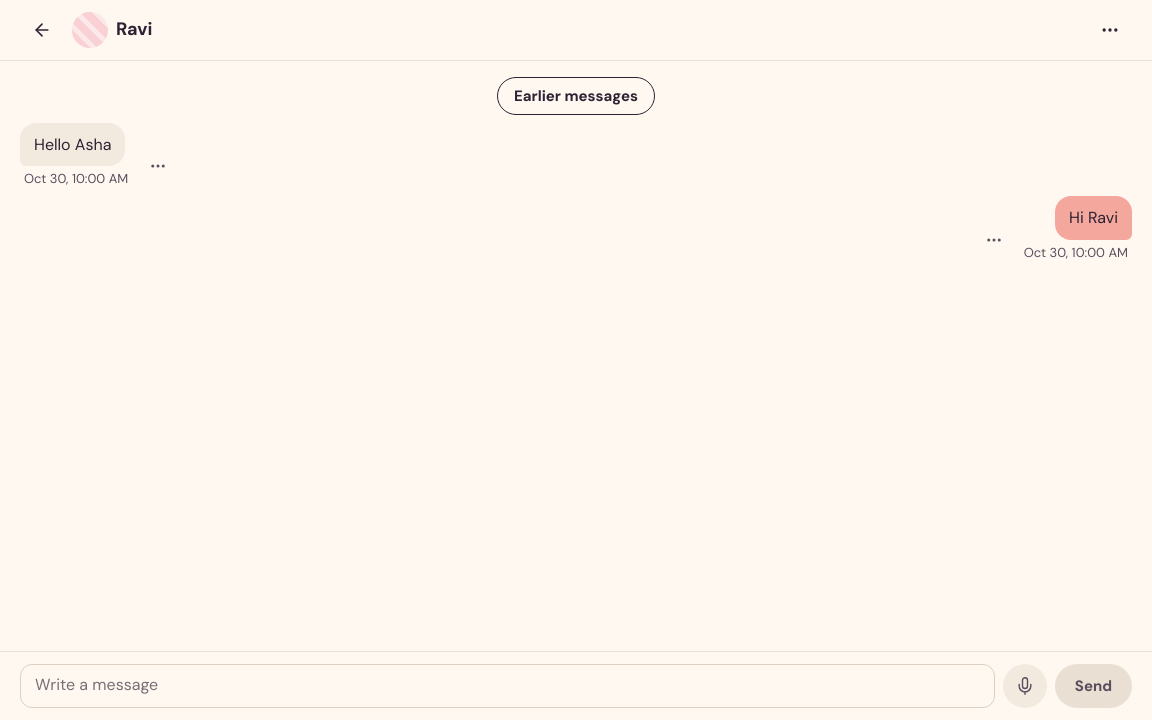
Test: ConversationView › loads earlier messages above the current ones
The image size is (1152, 720).
Click the button "Earlier messages".
click(576, 96)  # box top-left (497, 77), bottom-right (655, 115)
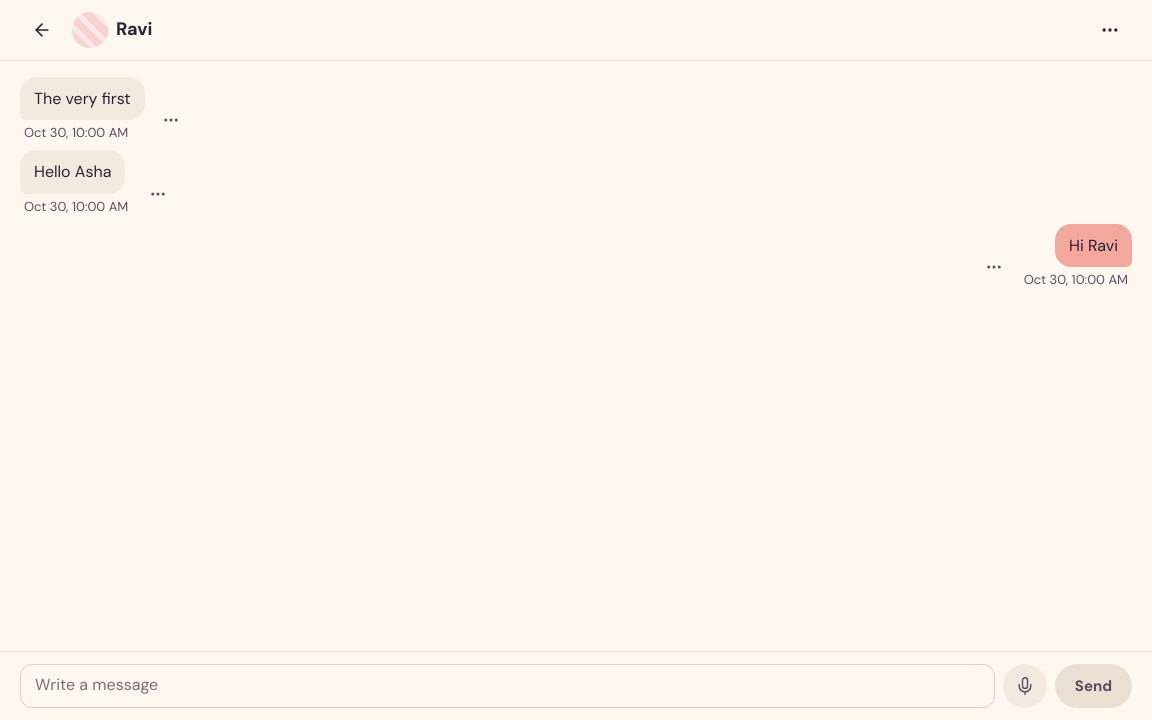
Check: the text "The very first" is shown, box top-left (20, 77), bottom-right (145, 120)
Check: the button "Earlier messages" is gone
